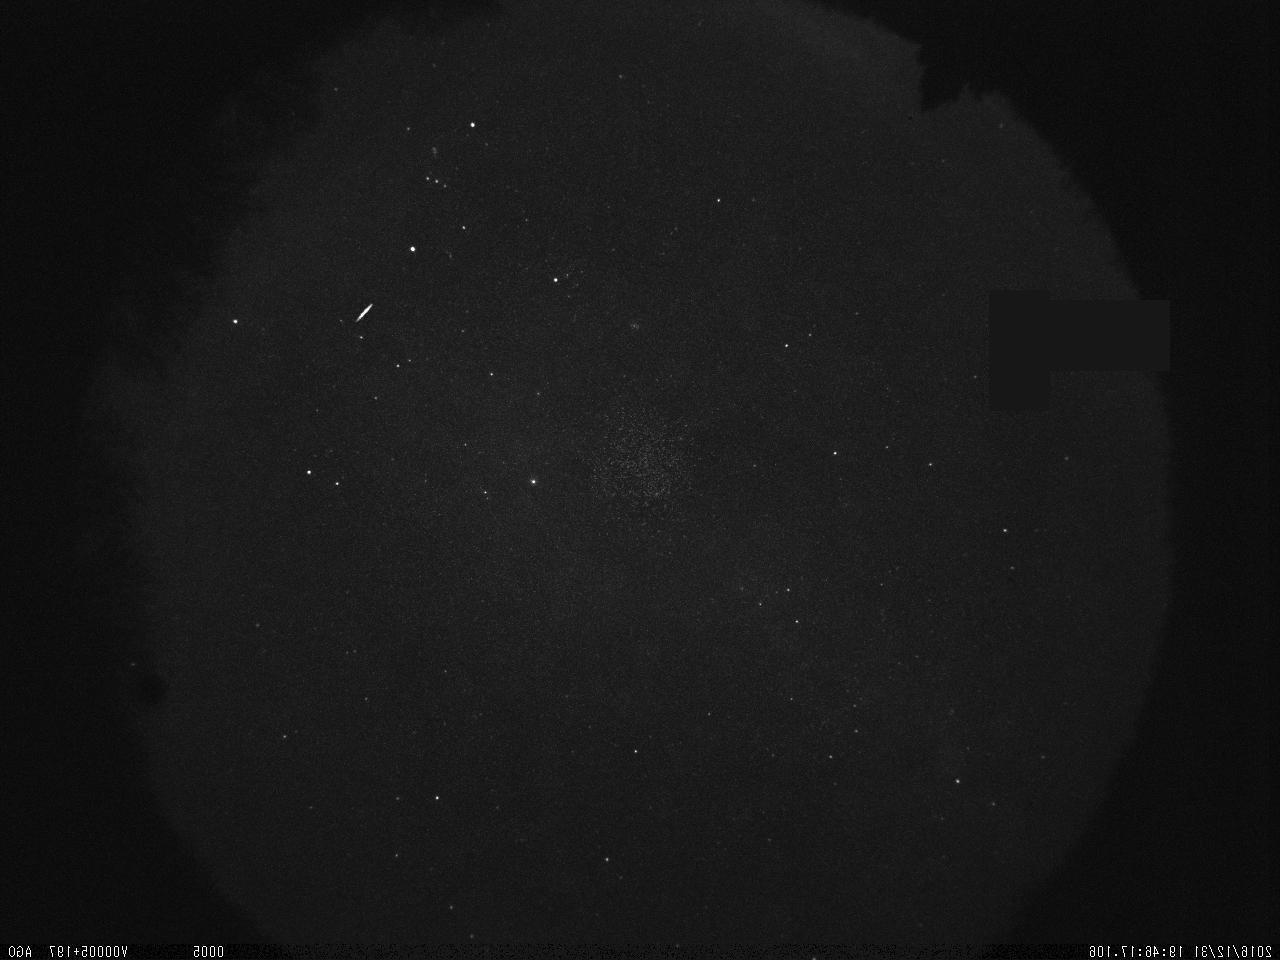meteor: (325, 289, 397, 334)
